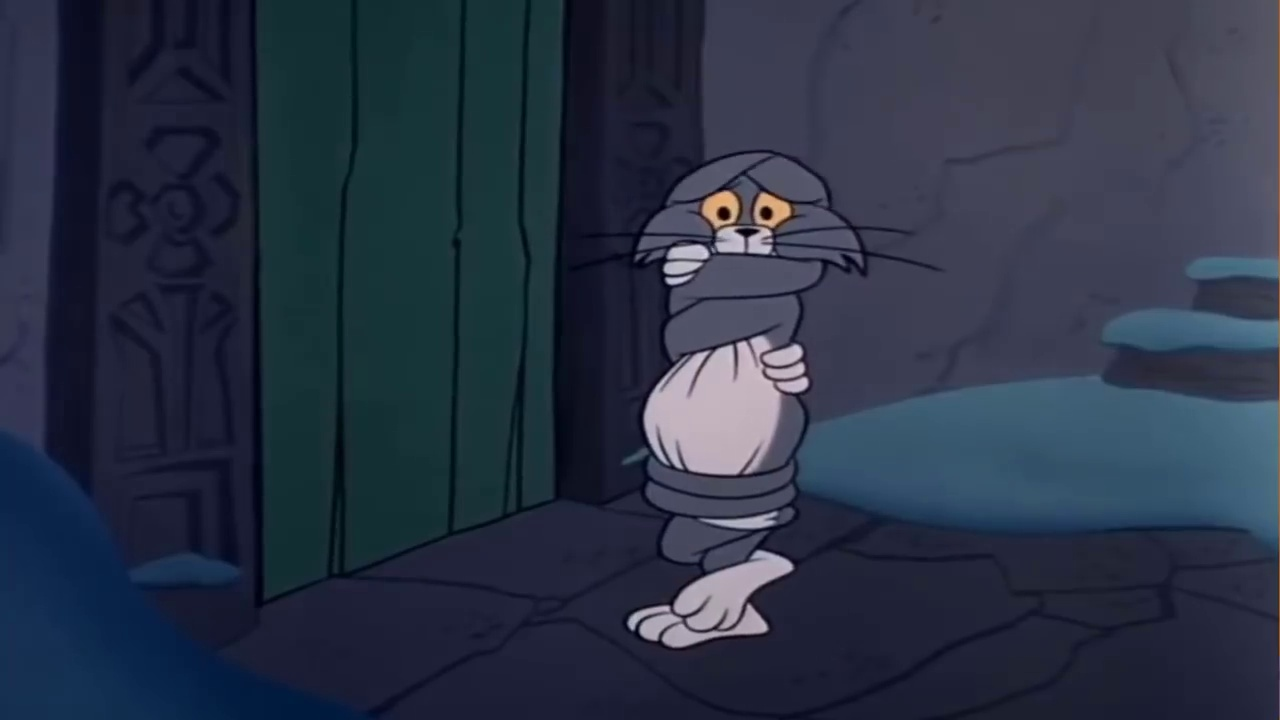face: (687, 171, 814, 254)
